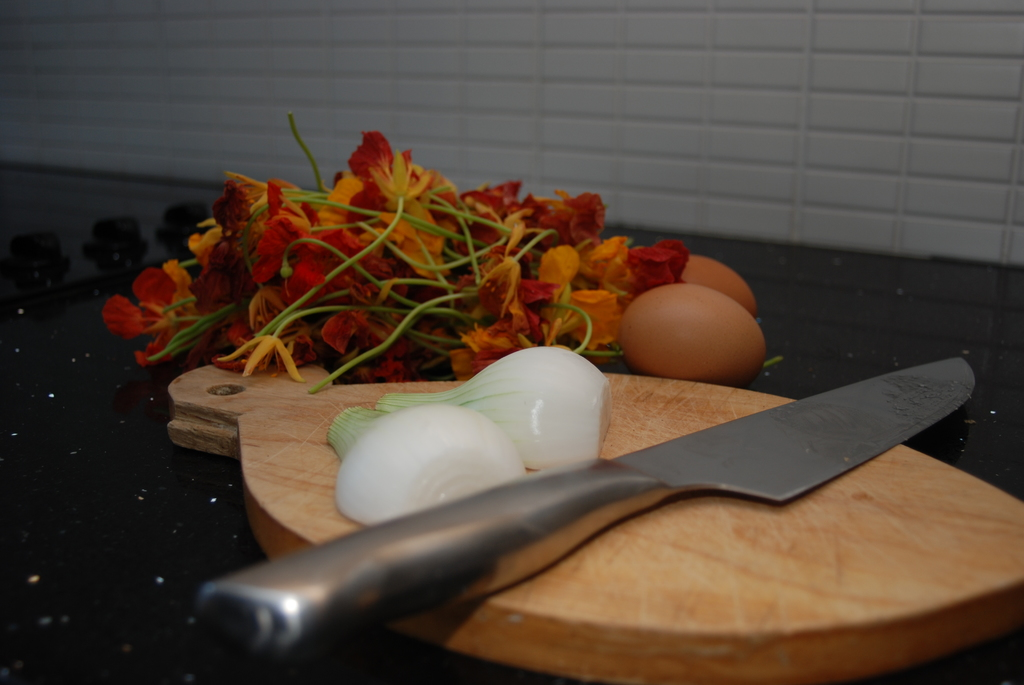kitchen knife: (193, 355, 967, 665)
